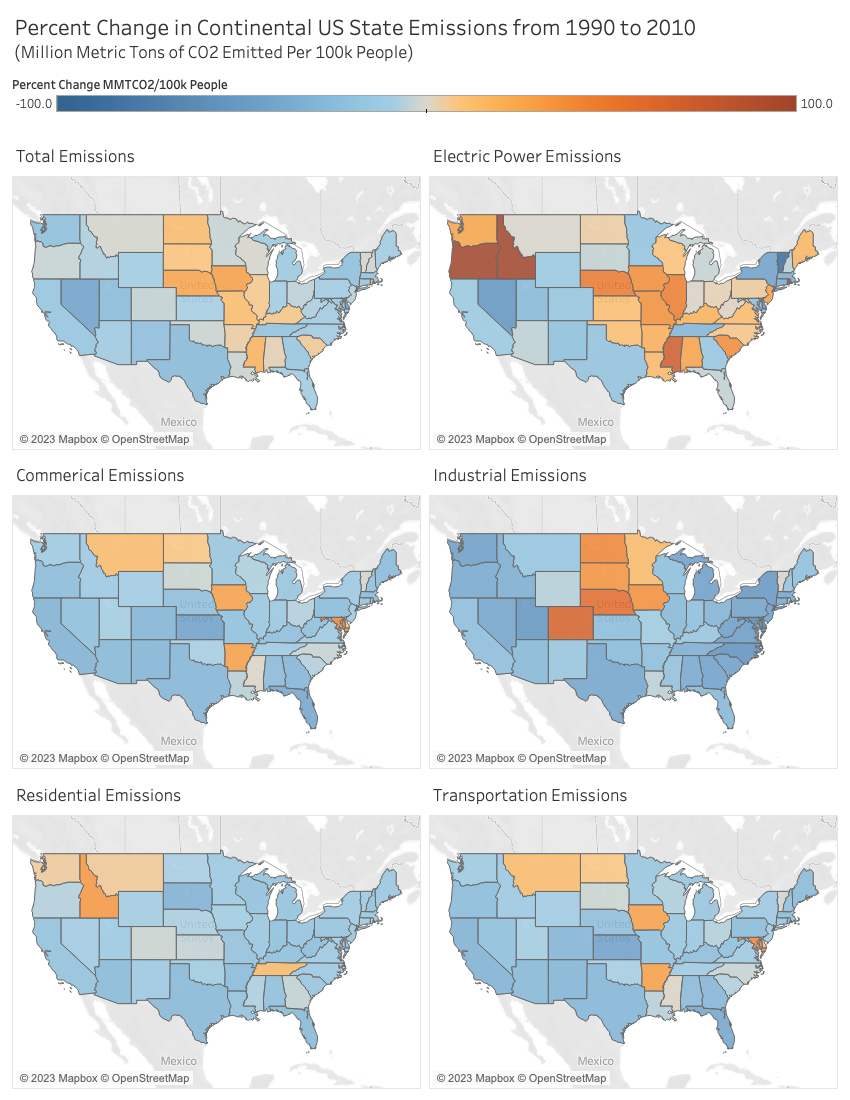

The page's visual inventory and layout, read from the dashboard file:
{"tool":"tableau","page":{"name":"Dashboard 1","canvas":[850,1100],"ordinal":0},"visuals":[{"type":"title","box":[8,8,834,60]},{"type":"legend","title":"Commerical","param":"[federated.1ndynpf0y45k5d130f9bw083kegw].[attr:Diff-Commercial:qk]","box":[8,68,834,65]},{"type":"worksheet","title":"Total","mark":"Multipolygon","box":[8,133,417,319.7]},{"type":"worksheet","title":"Electric Power","mark":"Multipolygon","box":[425,133,417,319.6]},{"type":"worksheet","title":"Industrial","mark":"Multipolygon","box":[425,452.6,417,319.7]},{"type":"worksheet","title":"Commerical","mark":"Multipolygon","box":[8,452.7,417,319.7]},{"type":"worksheet","title":"Residential","mark":"Multipolygon","box":[8,772.3,417,319.7]},{"type":"worksheet","title":"Transportation","mark":"Multipolygon","box":[425,772.3,417,319.7]}]}

Visuals, with their boxes in screenshot pixels (x1, y1, x2, y2), scaled from the page's 850x1100 canvas onto the 850x1100 screenshot:
title: 8:8:842:68
"Commerical" legend: 8:68:842:133
"Total" worksheet (Multipolygon marks): 8:133:425:453
"Electric Power" worksheet (Multipolygon marks): 425:133:842:453
"Industrial" worksheet (Multipolygon marks): 425:453:842:772
"Commerical" worksheet (Multipolygon marks): 8:453:425:772
"Residential" worksheet (Multipolygon marks): 8:772:425:1092
"Transportation" worksheet (Multipolygon marks): 425:772:842:1092
